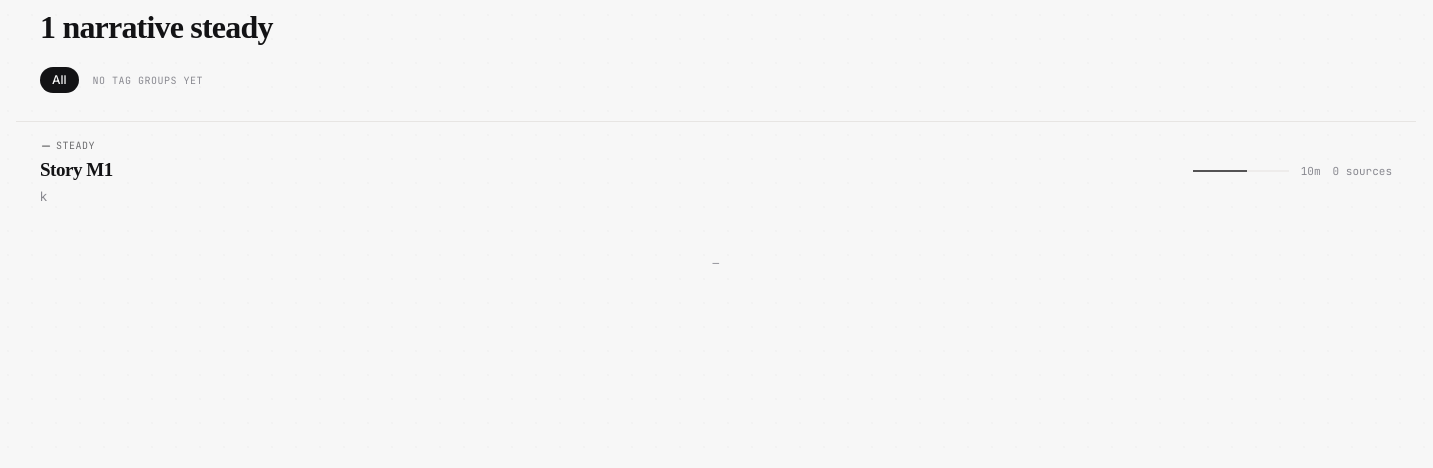
Test case: Slice 5: progressive whyItMatters enrichment › Slice 6 follow-through: after bounded polling stops at budget, a later heartbeat refresh still upgrades the why copy in place
Click the heading "Story M1": click(76, 170) [40, 159, 113, 180]
Wait 70000 ms
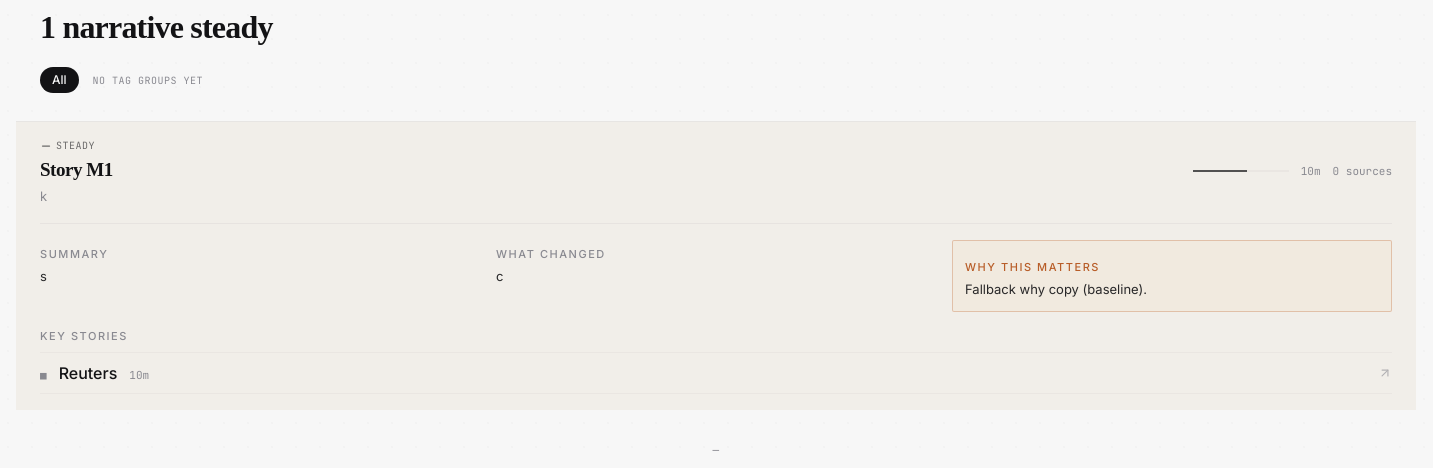
Check: the text "Fallback why copy (baseline)." is shown, box [965, 281, 1147, 297]
Click the button with test id "pill-all": click(59, 80) [40, 67, 79, 93]
Wait 10000 ms
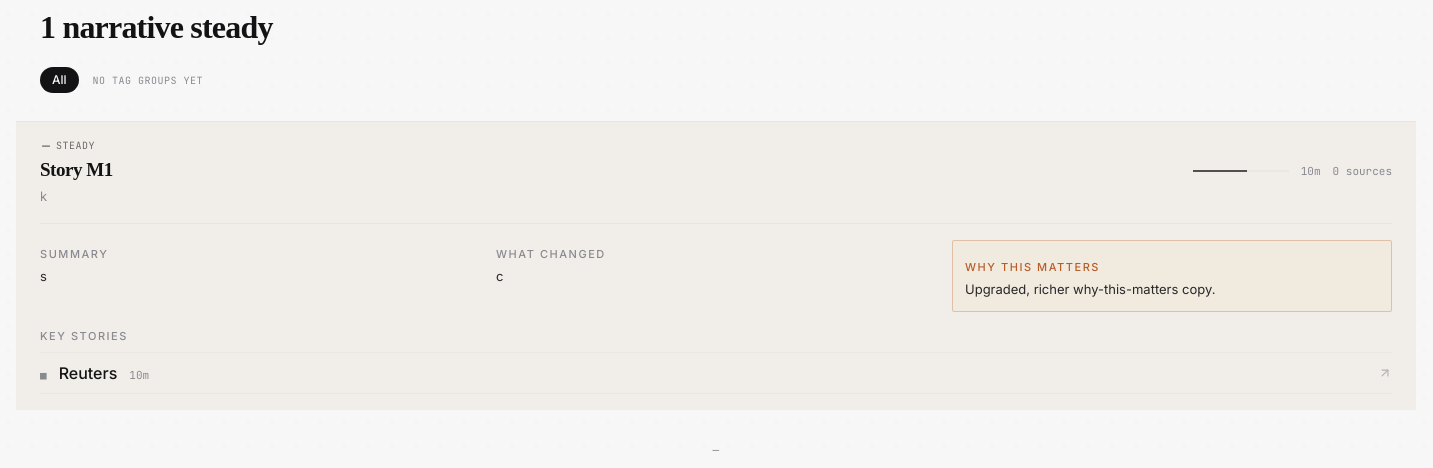
Check: the text "Upgraded, richer why-this-matters copy." is shown, box [965, 281, 1215, 297]
